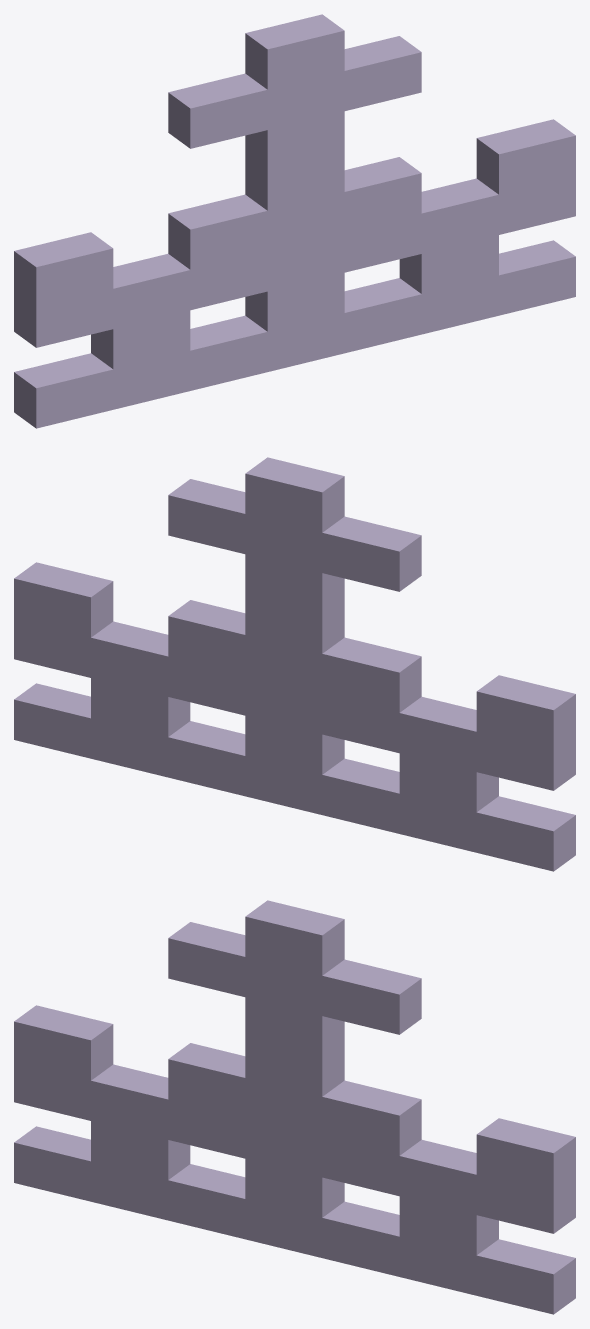
Rendered from Crown-Grey.vox.obj.
3 views of the same model, one above another, from view 1: azimuth 30°, elevation 25°; view 2: azimuth 150°, elevation 25°; view 3: azimuth 330°, elevation 25° (orthographic).
Bounding box in the file's own units: 1.4 × 0.8 × 0.1.
1 material, 1 textured.
